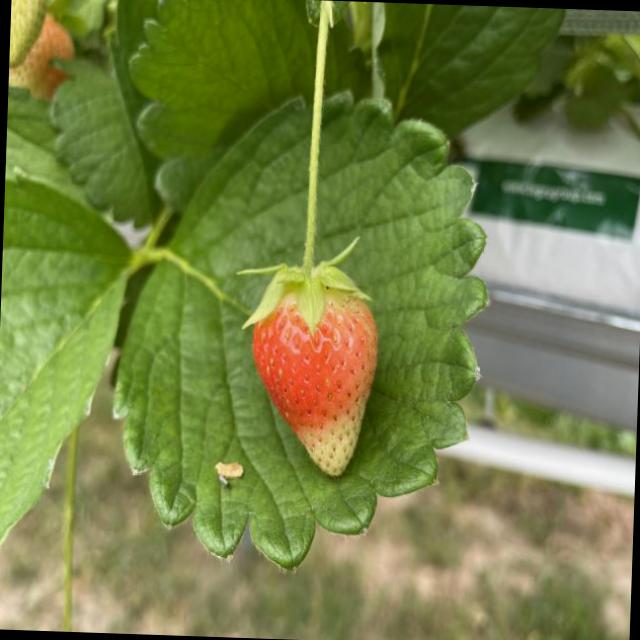stem: (238, 0, 369, 332)
strawberryR: (252, 292, 377, 475)
